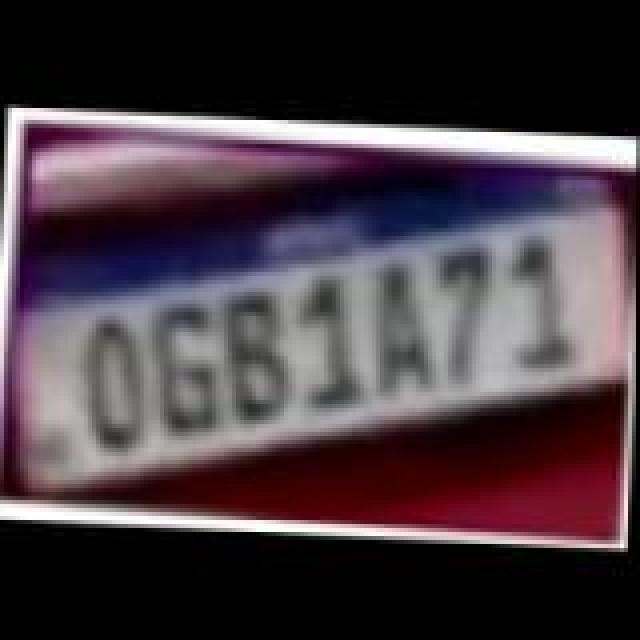1: (294, 266, 370, 406), (504, 230, 580, 366)
7: (434, 242, 502, 382)
A: (368, 252, 440, 396)
B: (218, 286, 298, 422)
G: (146, 298, 226, 434)
O: (80, 310, 156, 450)
